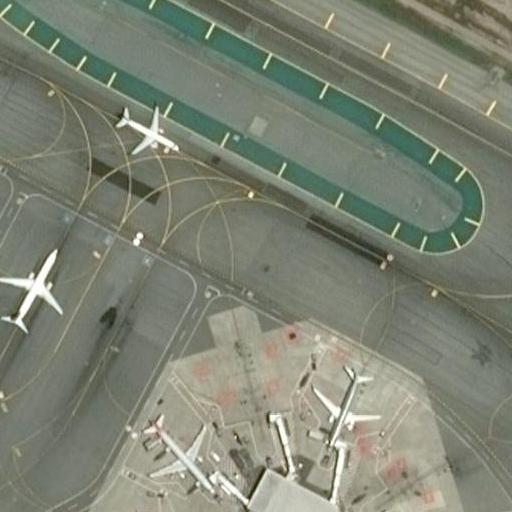Aircraft: (311, 361, 382, 450), (141, 412, 215, 495), (0, 246, 63, 335), (113, 104, 182, 159)
